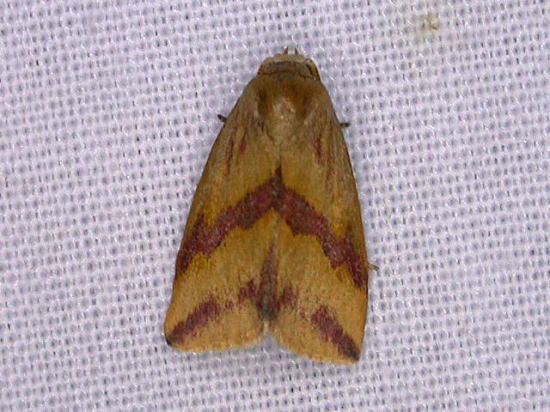Noctuidae: (162, 51, 385, 366)
